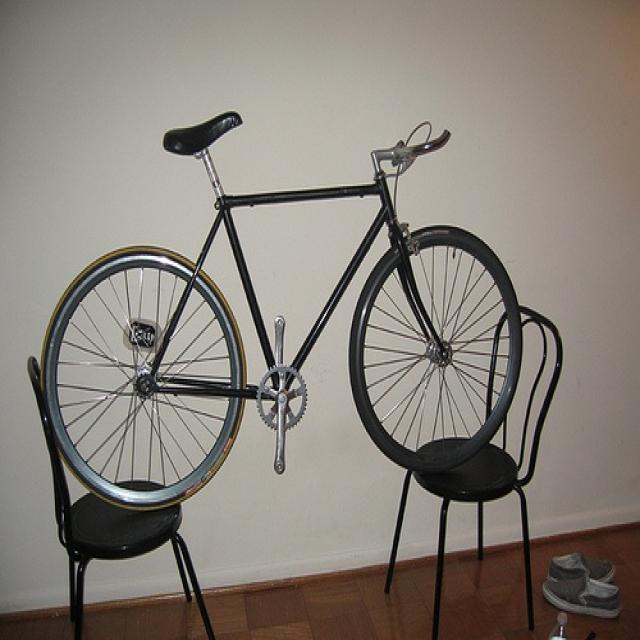bicycle: (36, 109, 523, 490)
chair: (383, 304, 563, 638), (25, 355, 216, 638)
